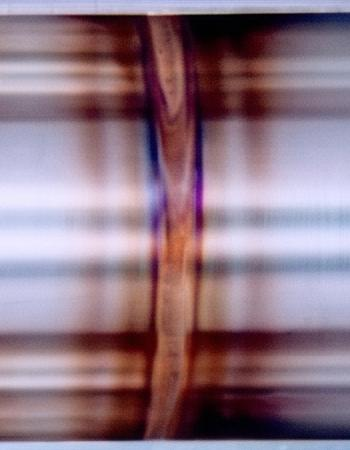soldas: (53, 4, 289, 446)
